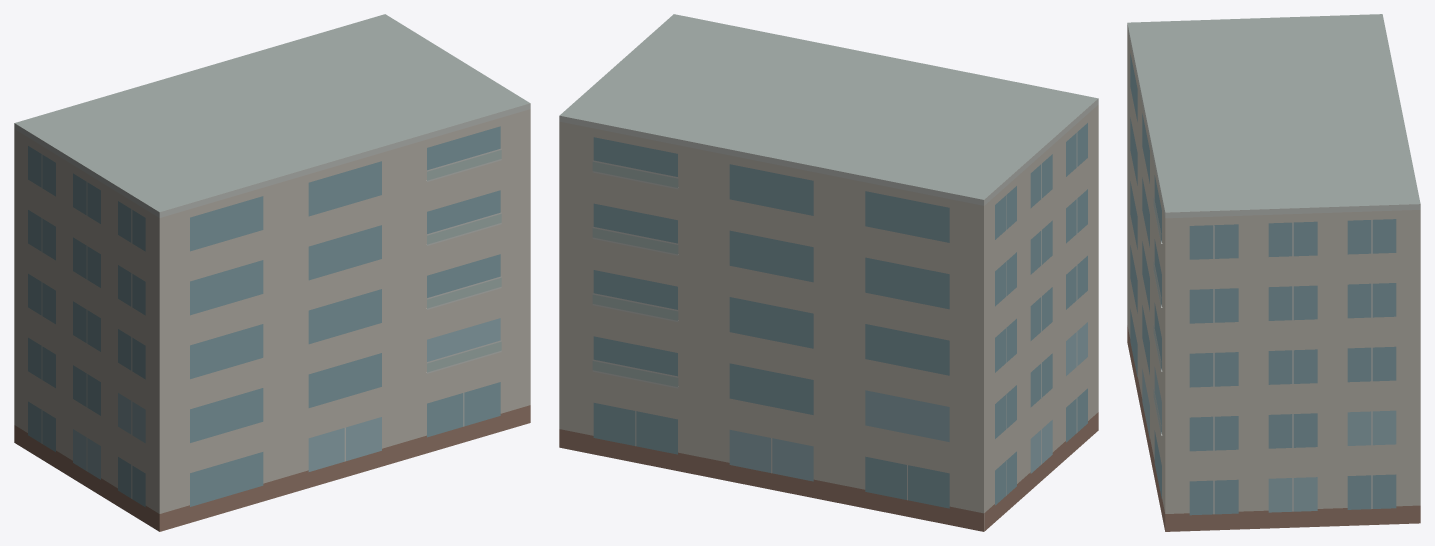
File: survey-upis-33005027.glb
3 views of the same model, side by side, from view 1: azimuth 30°, elevation 25°; view 2: azimuth 150°, elevation 25°; view 3: azimuth 270°, elevation 25° (orthographic). The views are drawn at different scales.
Parts seen in each view (by area): view 1: survey-upis-33005027.tmp; view 2: survey-upis-33005027.tmp; view 3: survey-upis-33005027.tmp.
Part boxes in pixels (x1,y1,x2,y2): survey-upis-33005027.tmp: (14,14,530,531); survey-upis-33005027.tmp: (559,14,1098,531); survey-upis-33005027.tmp: (1127,14,1420,531).
Bounding box in the file's own units: 17.95 × 13.45 × 11.21.
